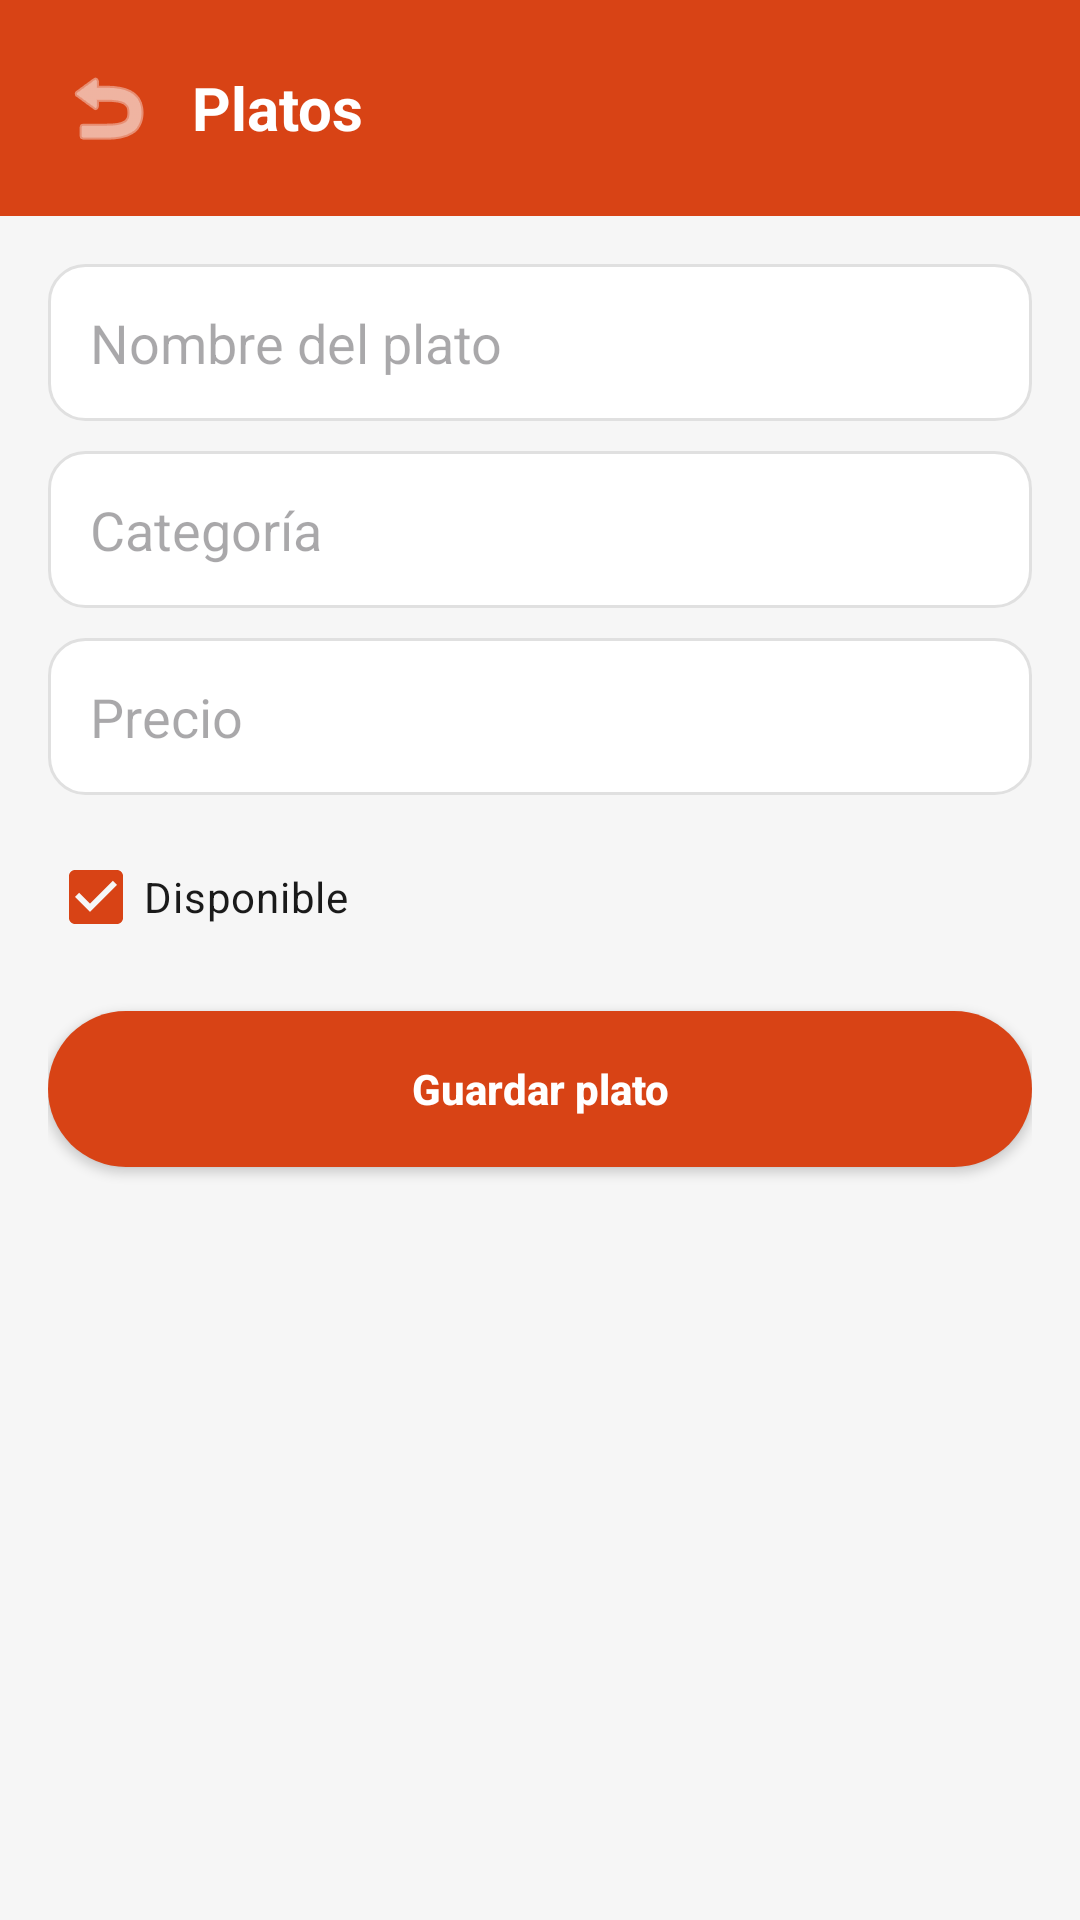

Screen size 1080px×1920px. Icon name, then its box in pixels as (x1, y1, x2, y2):
Volver: (75, 77, 144, 140)
